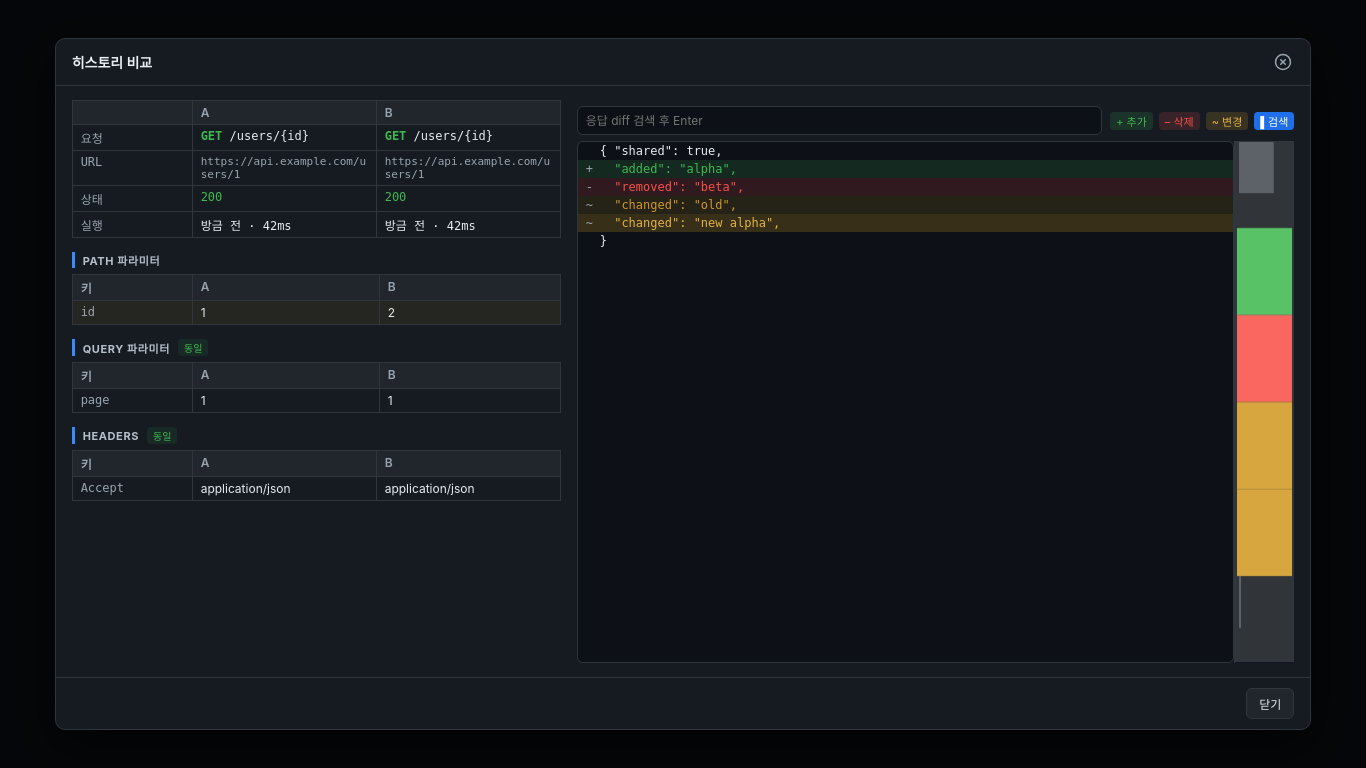
Test: CompareModal 2단 레이아웃·미니맵·검색·변경 구분 › 검색 후 Enter 시 매치가 하이라이트되고 n/m 카운터가 표시된다
Type "alpha" into the field with class "search".
click(839, 121); type("alpha")  # box [577,106,1102,135]
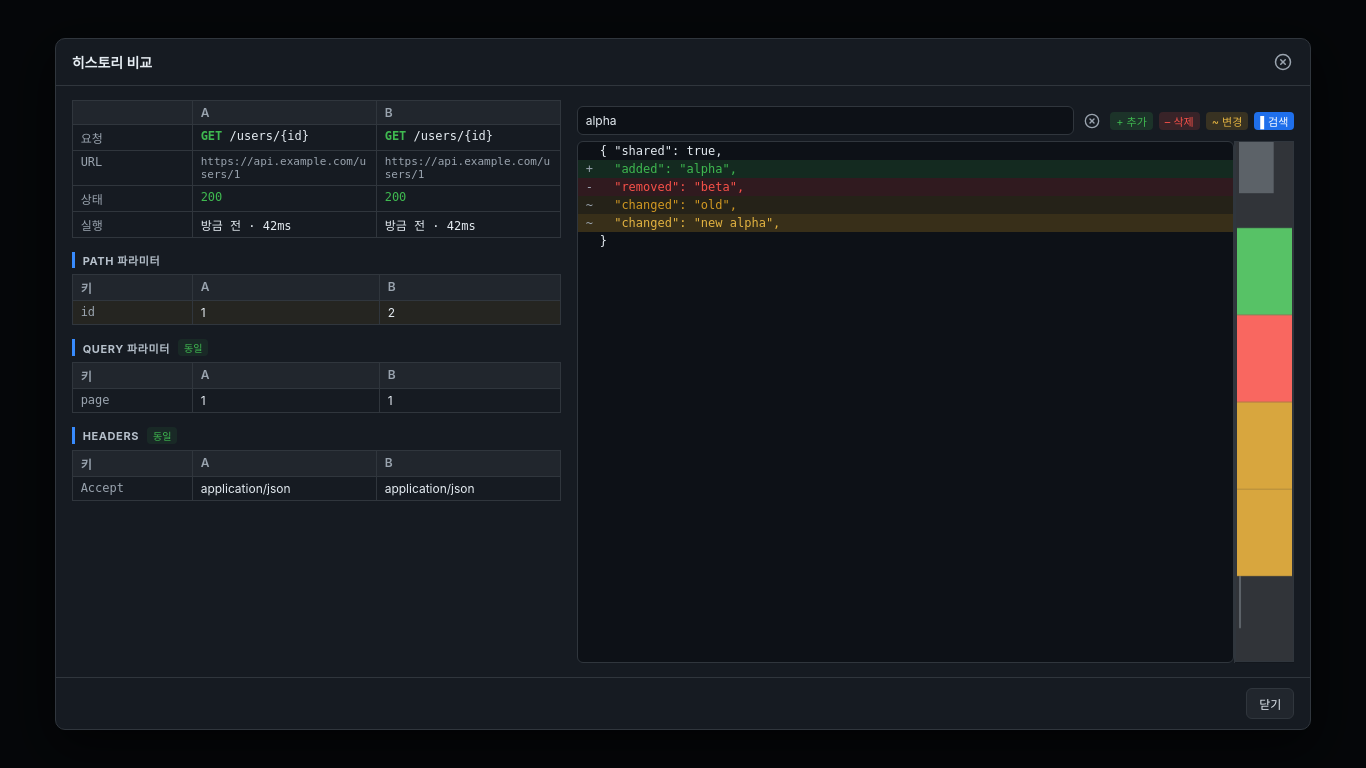
Press Enter in the field with class "search", box [577,106,1074,135]
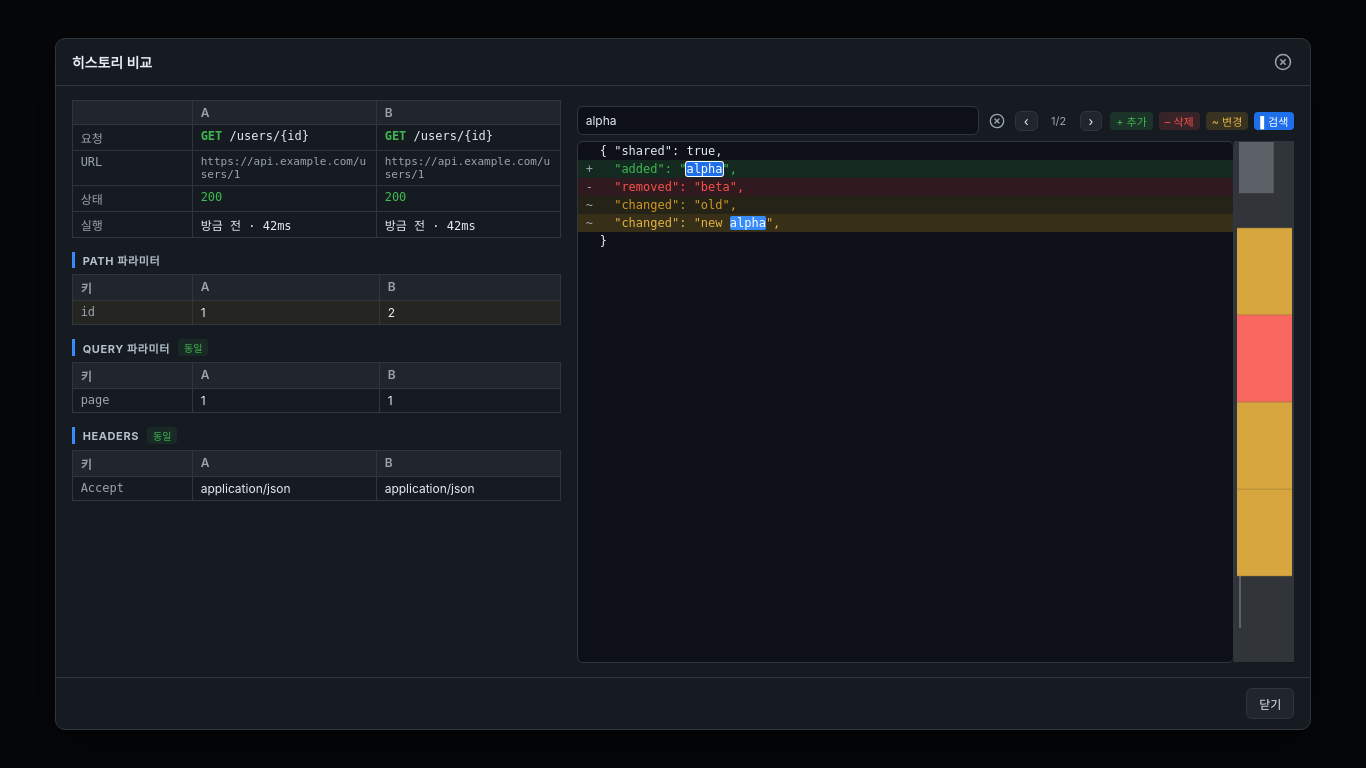
expect the text "alpha" next to "\"added\": \"" is shown: met, box [686,162,722,176]
expect the text "1/2" is shown: met, box [1051,114,1066,128]
